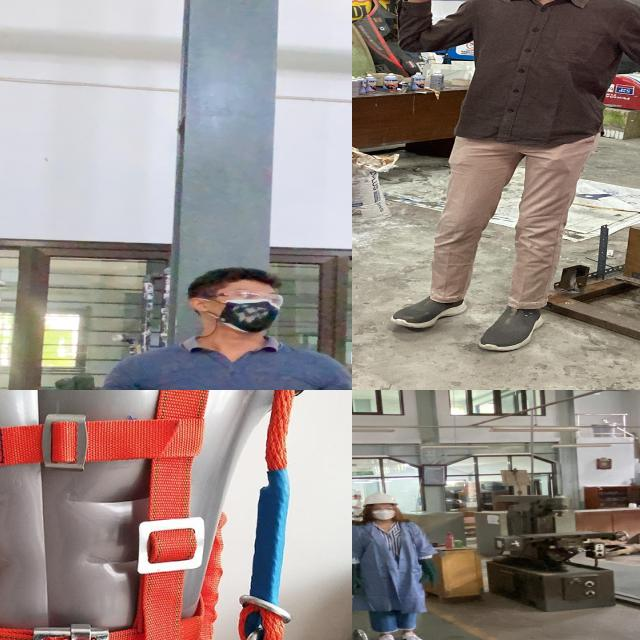Harness: (0, 390, 232, 640)
face_mask: (212, 288, 287, 330), (368, 503, 398, 521)
glasses: (199, 288, 287, 308), (368, 504, 398, 512)
hand_glove: (23, 369, 129, 390), (416, 570, 440, 584), (352, 576, 366, 596)
head_helmet: (361, 491, 399, 505)
head_nohelmet: (196, 263, 288, 295)
person: (383, 0, 640, 362), (96, 269, 352, 390), (352, 491, 446, 640)
shoes: (467, 298, 549, 354), (389, 288, 471, 334), (397, 628, 433, 640), (374, 631, 403, 640)
